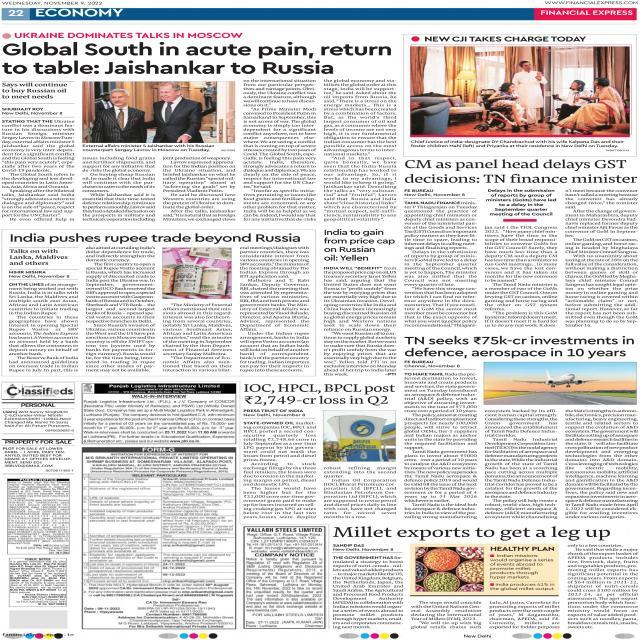Article: (1, 31, 400, 223), (401, 334, 640, 520), (8, 231, 312, 374), (402, 157, 640, 328), (329, 525, 640, 630), (240, 381, 398, 520), (322, 228, 398, 378)
Body: (403, 372, 478, 520), (323, 78, 398, 222), (242, 78, 316, 222), (564, 188, 639, 327), (404, 200, 479, 328), (238, 245, 310, 372), (85, 245, 156, 372), (564, 408, 640, 519), (323, 266, 398, 376), (484, 408, 559, 518), (484, 225, 558, 328), (1, 119, 75, 221), (242, 421, 318, 520), (9, 282, 80, 373), (566, 543, 640, 629), (331, 555, 404, 630), (162, 302, 233, 372), (82, 156, 156, 222), (162, 156, 236, 222), (323, 466, 398, 520), (411, 600, 483, 630), (488, 600, 560, 630), (3, 446, 75, 472), (488, 553, 554, 580), (3, 410, 75, 432), (490, 582, 556, 592)
Date: (1, 0, 102, 6)
Heading: (403, 158, 638, 183), (404, 335, 634, 358), (333, 526, 611, 542), (245, 383, 398, 406), (10, 232, 302, 244), (322, 228, 396, 262)
Highlights: (486, 188, 557, 216), (424, 35, 586, 43), (2, 82, 68, 99), (9, 248, 70, 265), (490, 546, 555, 552), (3, 440, 72, 444), (20, 403, 56, 407)
Image: (82, 448, 236, 628), (411, 46, 630, 136), (2, 42, 392, 74), (82, 383, 236, 445), (82, 82, 236, 144), (244, 526, 324, 628), (484, 362, 636, 404), (6, 478, 70, 554), (324, 410, 396, 462), (162, 247, 231, 299), (416, 546, 484, 592), (9, 558, 68, 606)
Name: (35, 8, 124, 16), (540, 10, 635, 16)
